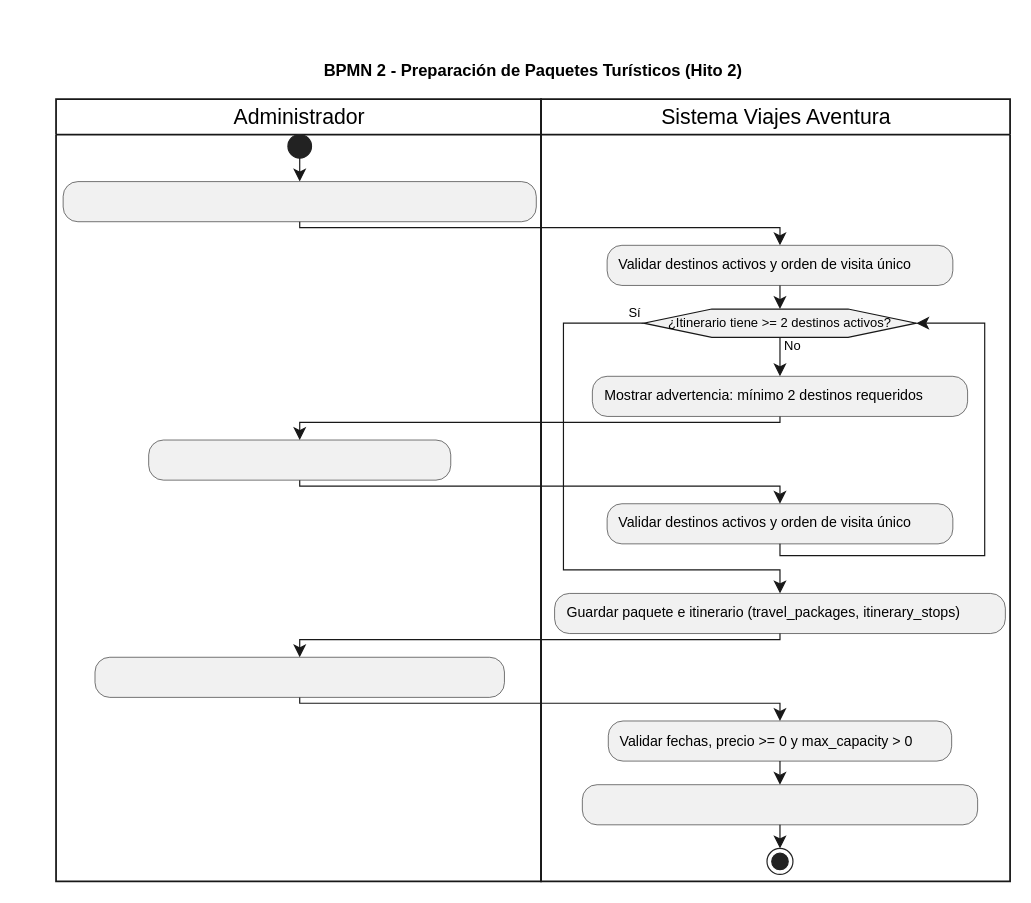
Some shapes in this 1031 by 903 pixel diagram are drawn without their labels. The shapes that lost their labels are listed below. From the top down, each one's centre as x and y in pixels, then its label:
At pixel 299 201: "Crear paquete turístico y seleccionar destinos con orden de visita".
At pixel 299 459: "Agregar más destinos activos al paquete".
At pixel 299 676: "Programar salida (fecha inicio, fecha fin, precio y cupos)".
At pixel 779 804: "Publicar salida con estado OPEN (package_departures)".
